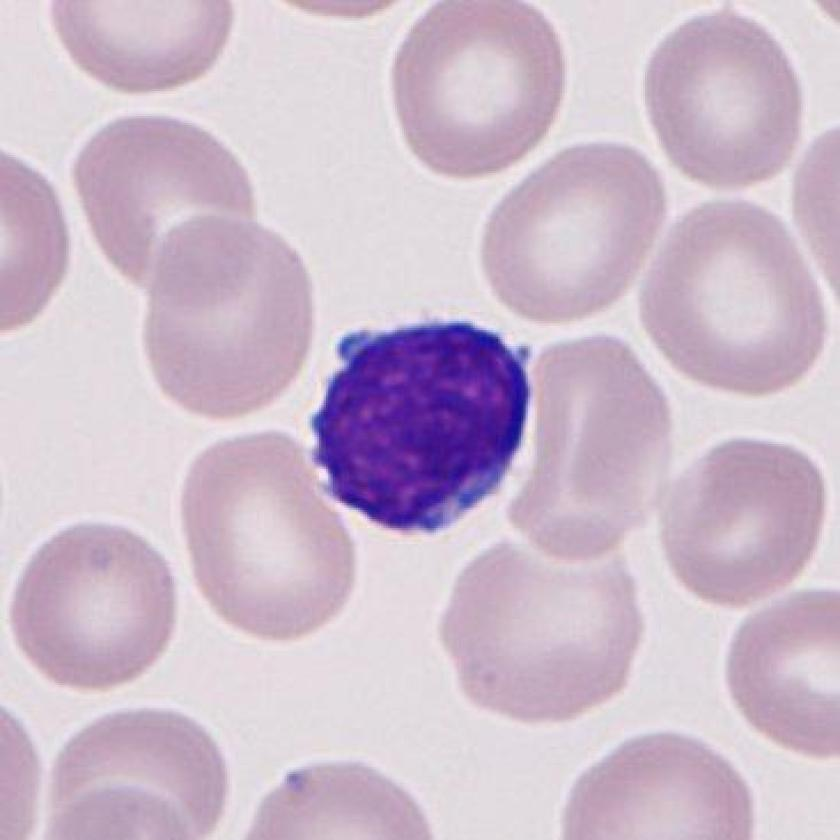monocyte: (288, 301, 554, 552)
